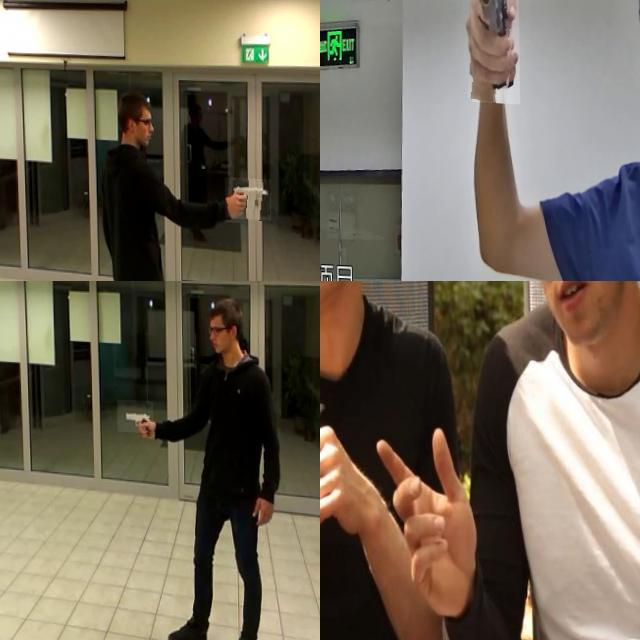-: (320, 505, 370, 640)
gun-knife-thesis - v11 Yolov5 augmented: (468, 0, 519, 100), (224, 172, 270, 215), (116, 396, 152, 429)
